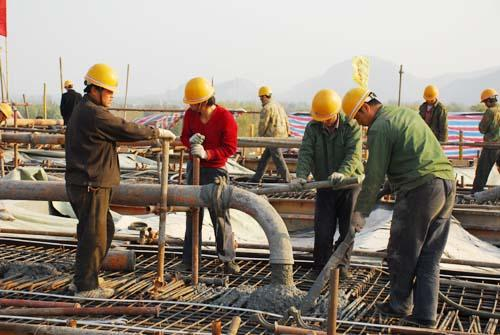helmet: (83, 58, 122, 112), (179, 72, 219, 122), (339, 83, 383, 124), (308, 86, 342, 131), (421, 82, 445, 110), (479, 87, 499, 117), (256, 82, 276, 106)
